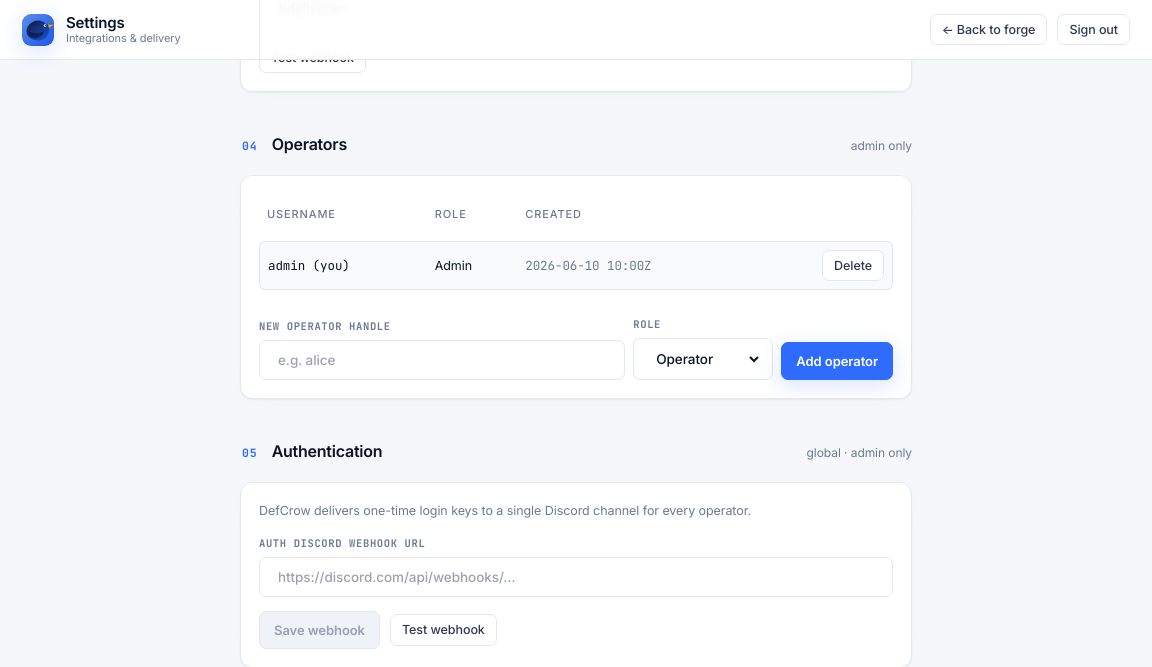
Scenario: SettingsPage admin sections › admin can add a new operator
(page scrolled)
Check: the text "admin (you)" is shown, box x1=268 y1=257 x2=350 y2=274
Type "bob" into the field with placeholder "e.g. alice" at (442, 360), box x1=270 y1=341 x2=614 y2=379
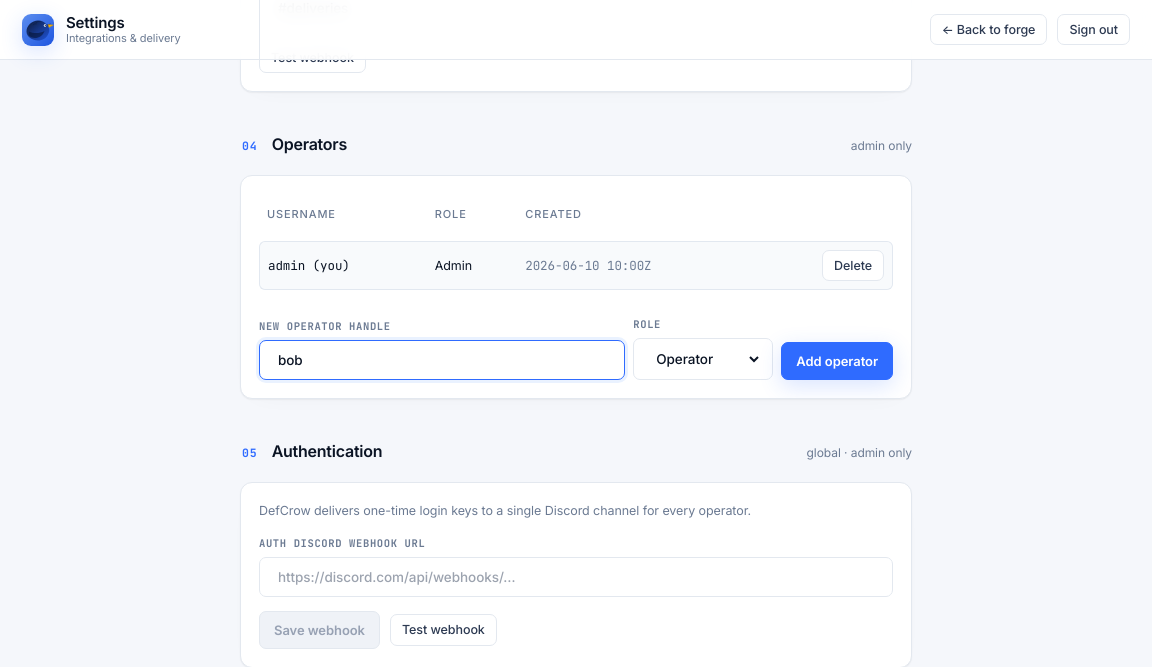
Click the button "Add operator" at (837, 361), box x1=781 y1=342 x2=893 y2=380
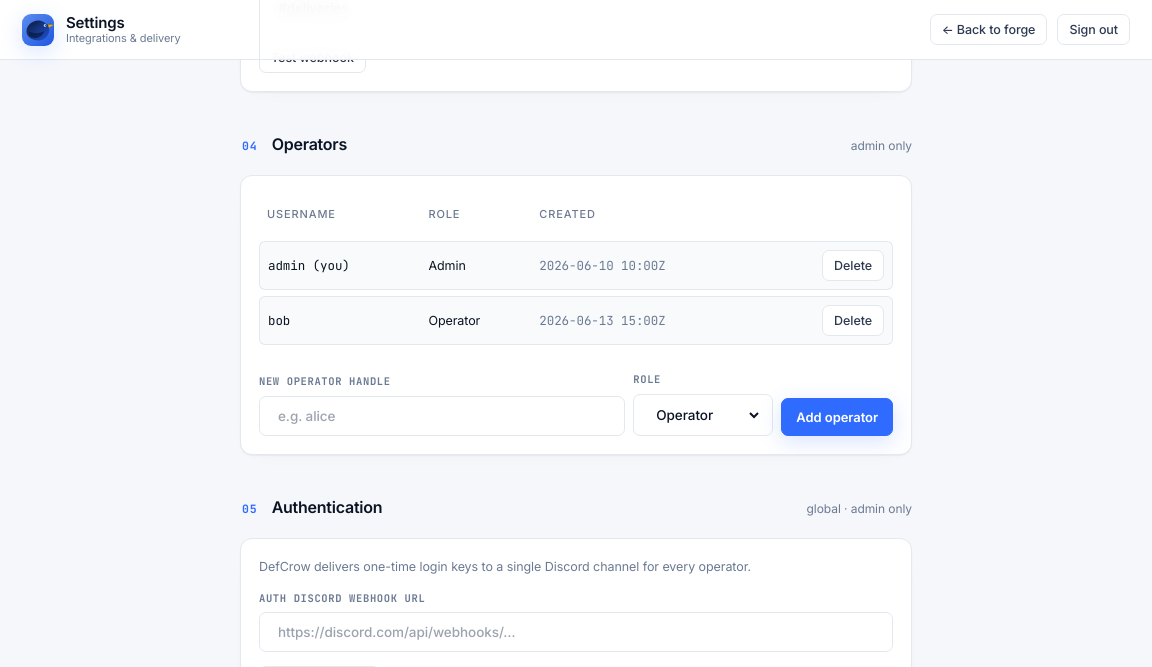
Check: the text "bob" is shown, box x1=268 y1=312 x2=290 y2=329
